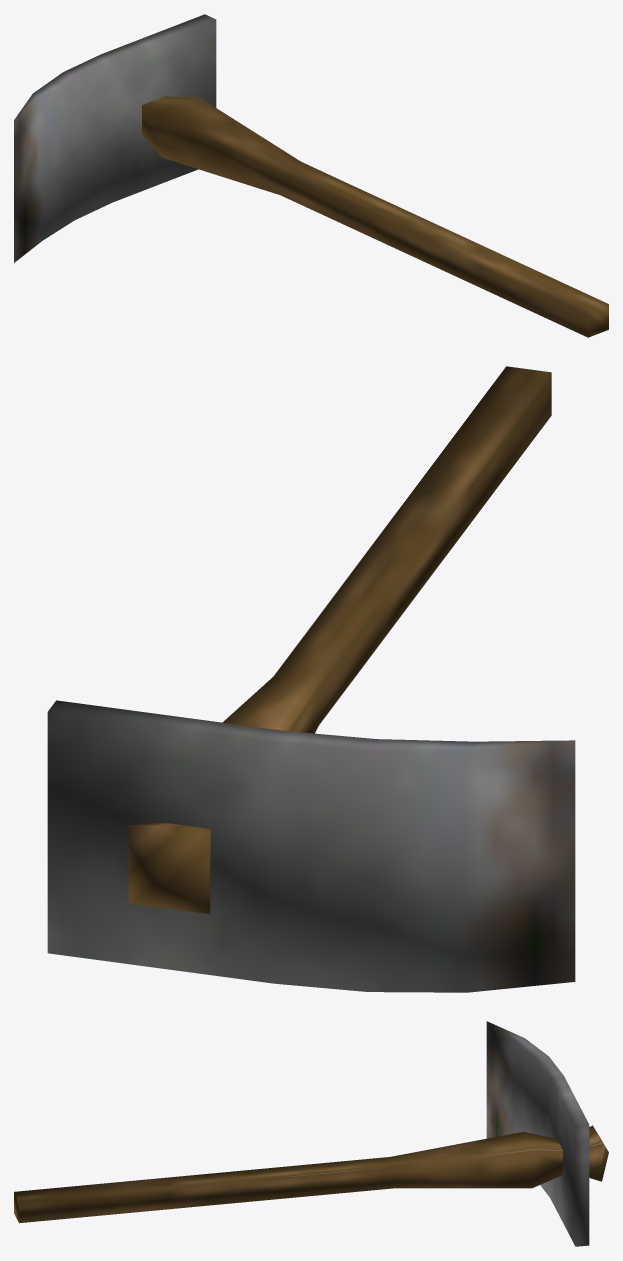
The model's file is batch_0082.obj.
The picture shows the model from 3 angles, top to bottom: view 1: azimuth 30°, elevation 25°; view 2: azimuth 150°, elevation 25°; view 3: azimuth 270°, elevation 25°; orthographic projection. The views are drawn at different scales.
Visible parts, largest first — view 1: batch_0082; view 2: batch_0082; view 3: batch_0082.
Boxes of the visible parts, x1,y1,x2,y2 form: batch_0082: [14, 14, 608, 337]; batch_0082: [47, 366, 575, 992]; batch_0082: [14, 1021, 608, 1246].
Size of the model in its own units: 65.13 by 28 by 125.
Materials: 1 (1 with a texture image).
